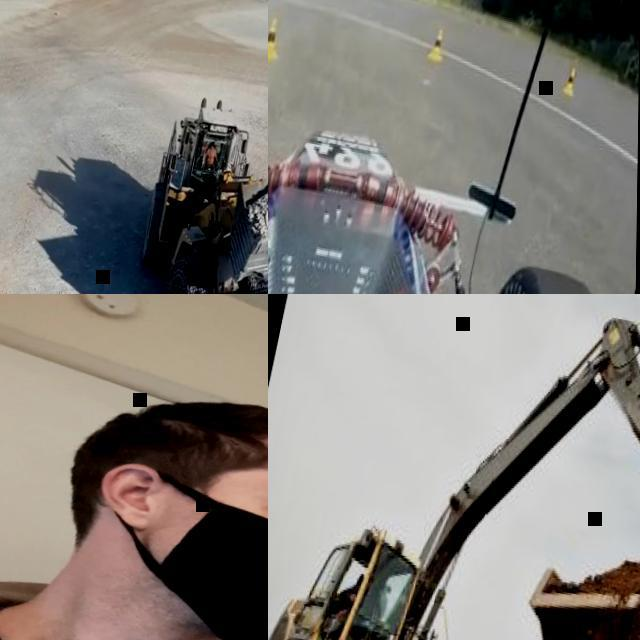Robbery: (16, 384, 269, 640)
